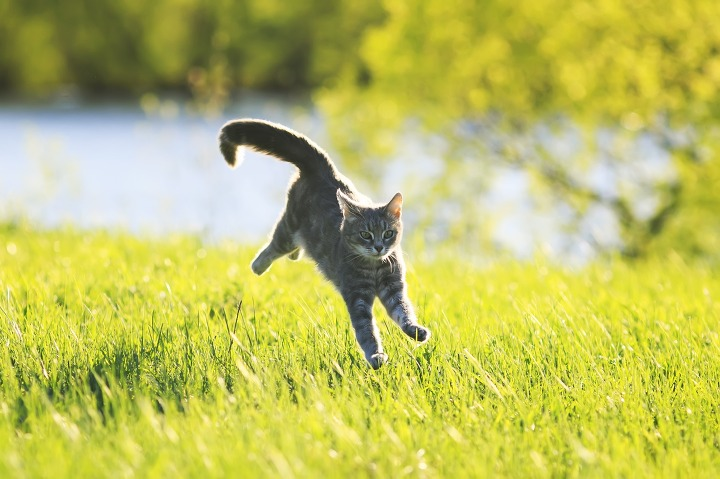cat: (212, 118, 433, 378)
